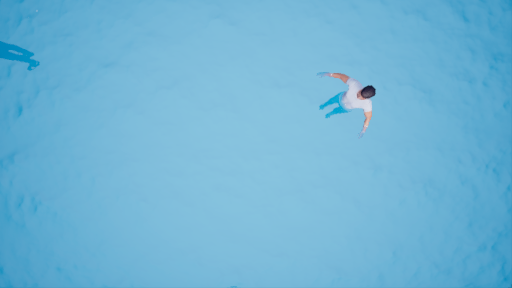person: (311, 67, 380, 137)
